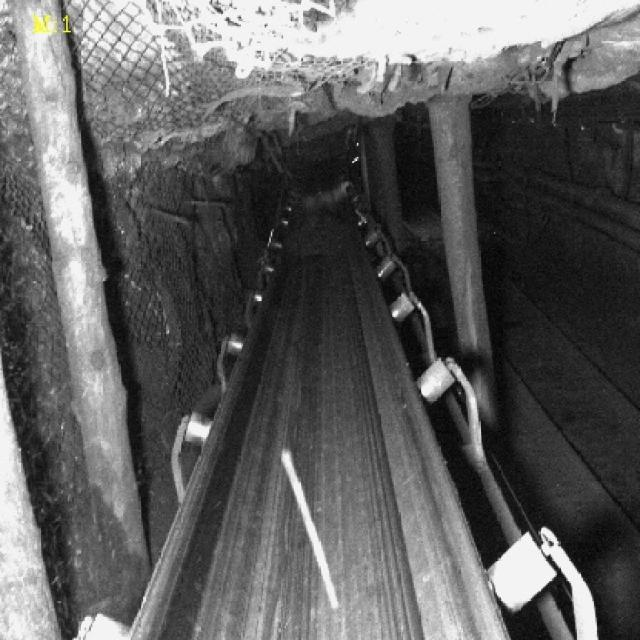bolt: (279, 446, 346, 606)
